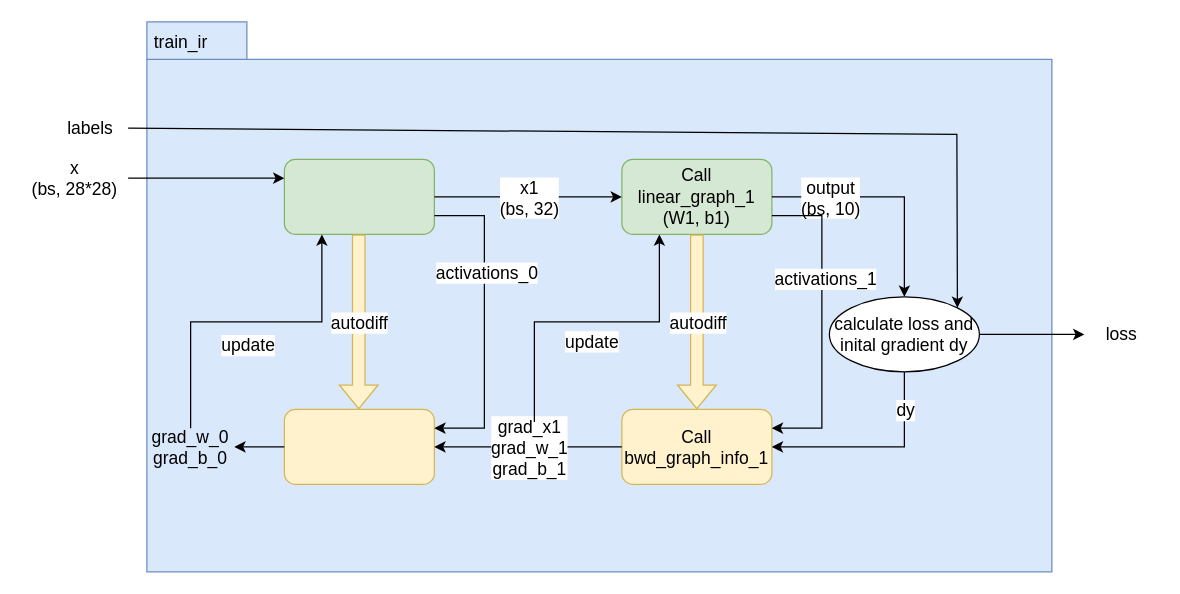
The diagram is 1180 pixels wide and 594 high, and some of its shapes have lost their labels. The centre of each missing label's shape, as x and y in pixels:
"Call bwd_graph_info_0" goes at [358,446].
"Call linear_graph_0 (W0, b0)" goes at [358,196].
